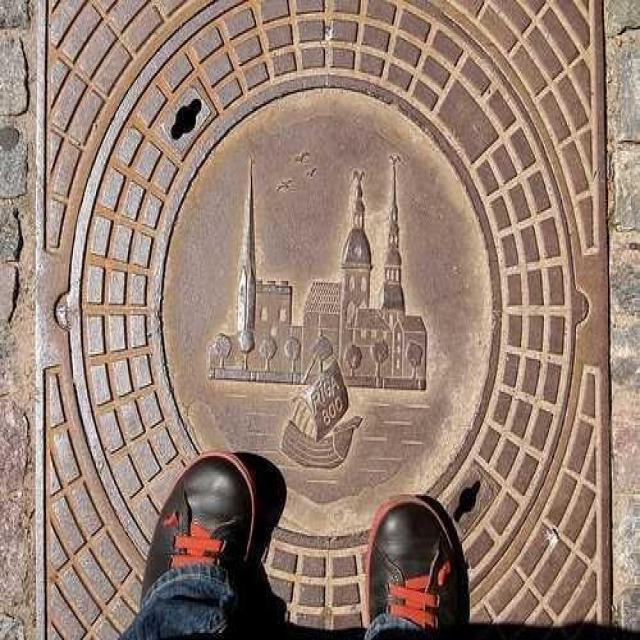manhole: (40, 0, 609, 638)
